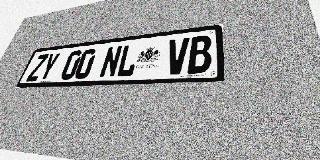0: (73, 48, 97, 79), (59, 50, 83, 80)
B: (187, 35, 212, 74)
L: (115, 43, 140, 77)
N: (98, 45, 123, 78)
V: (165, 37, 189, 75)
Y: (37, 52, 61, 81)
Z: (26, 54, 49, 82)
